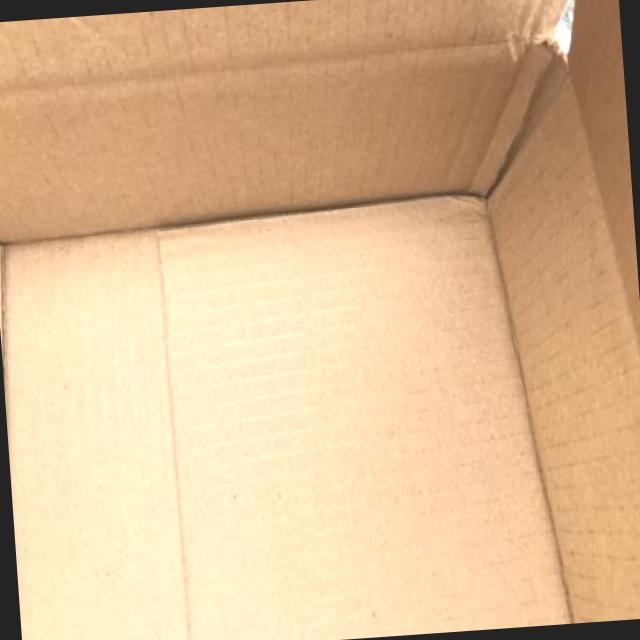cardboard: (0, 0, 639, 639), (159, 198, 566, 639), (0, 0, 561, 242), (490, 82, 639, 621), (3, 236, 186, 639), (569, 0, 639, 341)
